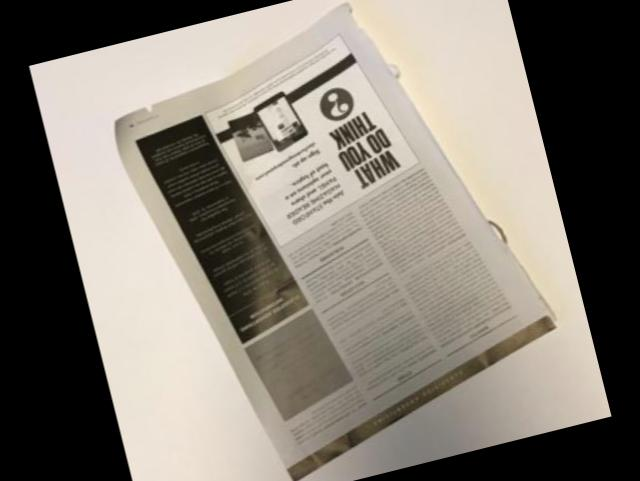cardboard paper: (117, 2, 555, 476)
